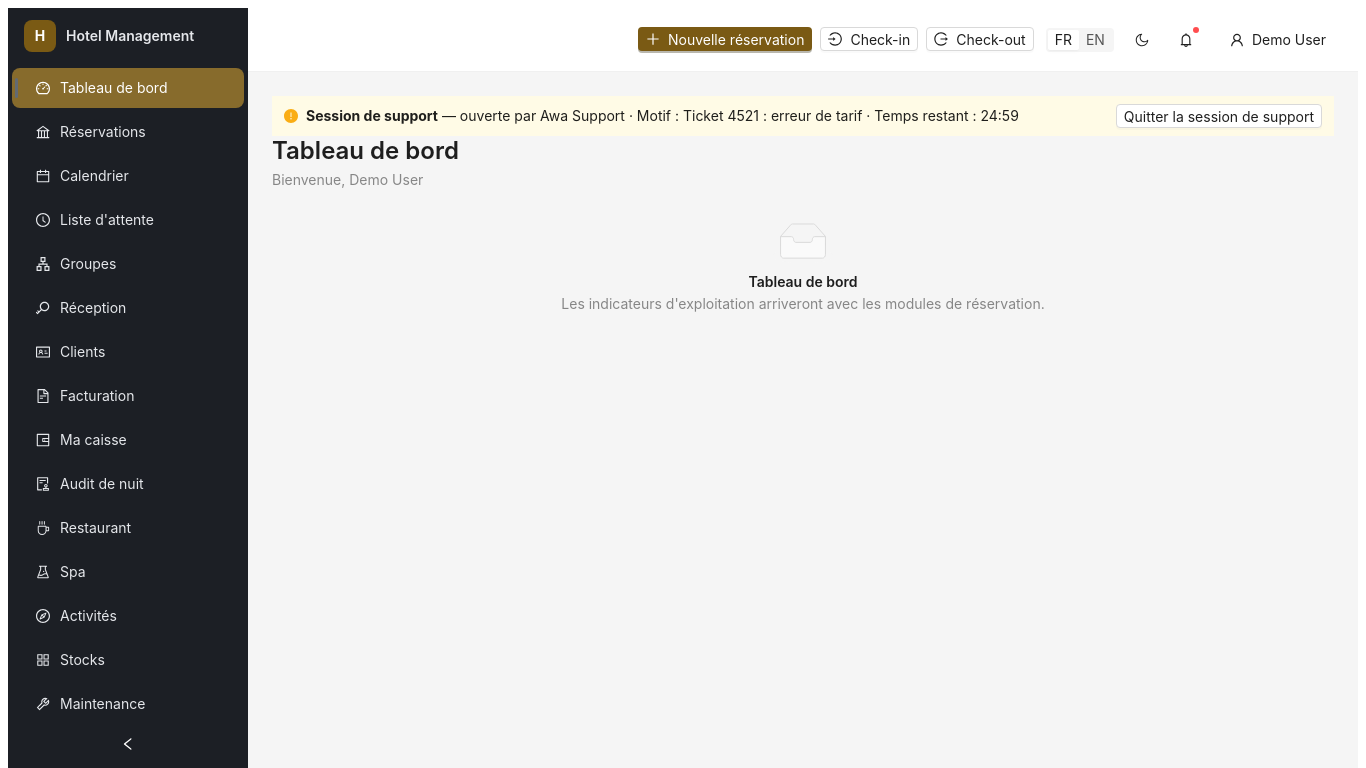
Test: route guards › shows the impersonation banner (who, reason, time left, exit)
The image size is (1366, 768).
Check: the message shows "Awa Support", box [460, 107, 625, 124]
Check: the message shows "Ticket 4521", box [625, 107, 862, 124]
What coordinates should you click on to do the following:
click the button "Quitter la session de support"
I would click on:
 (1219, 116)
Its box is [1116, 104, 1322, 128].
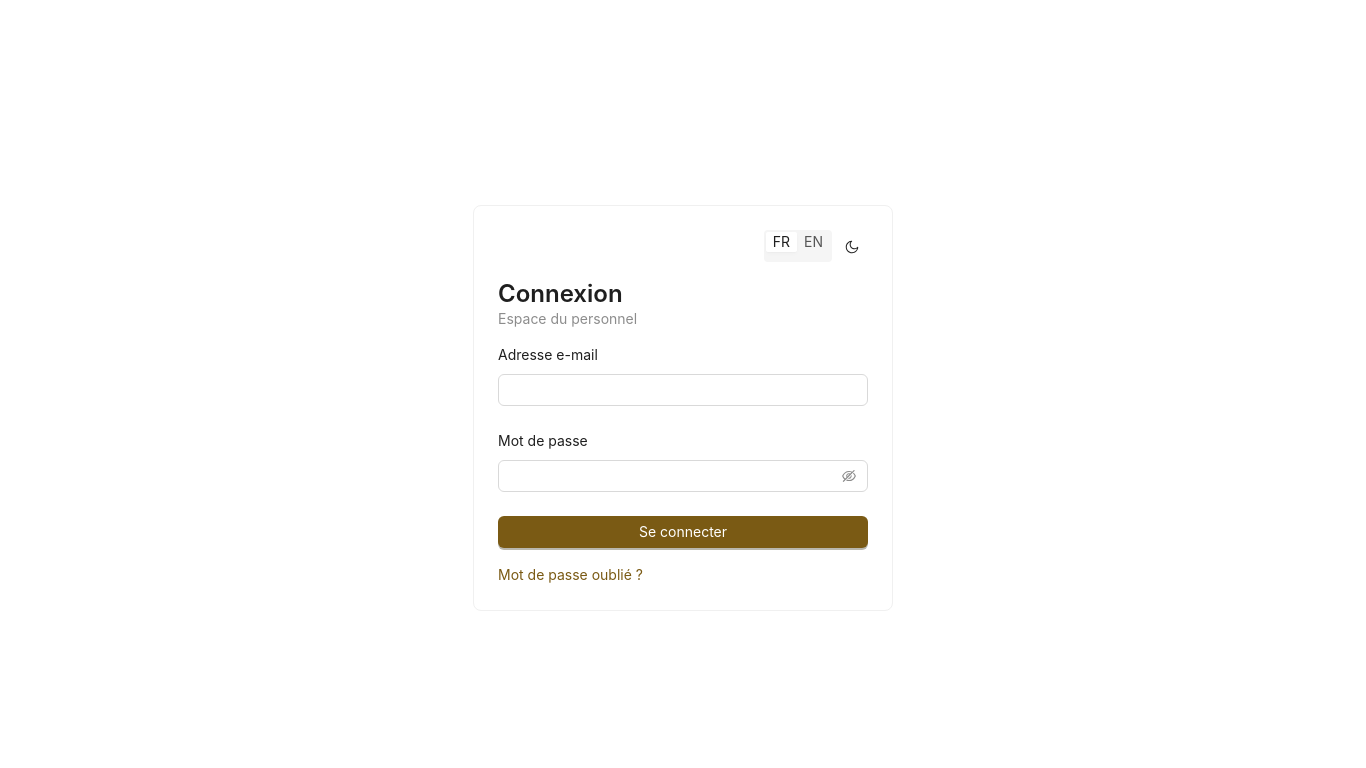
Check: the heading "Connexion" is shown, box [498, 278, 623, 308]
